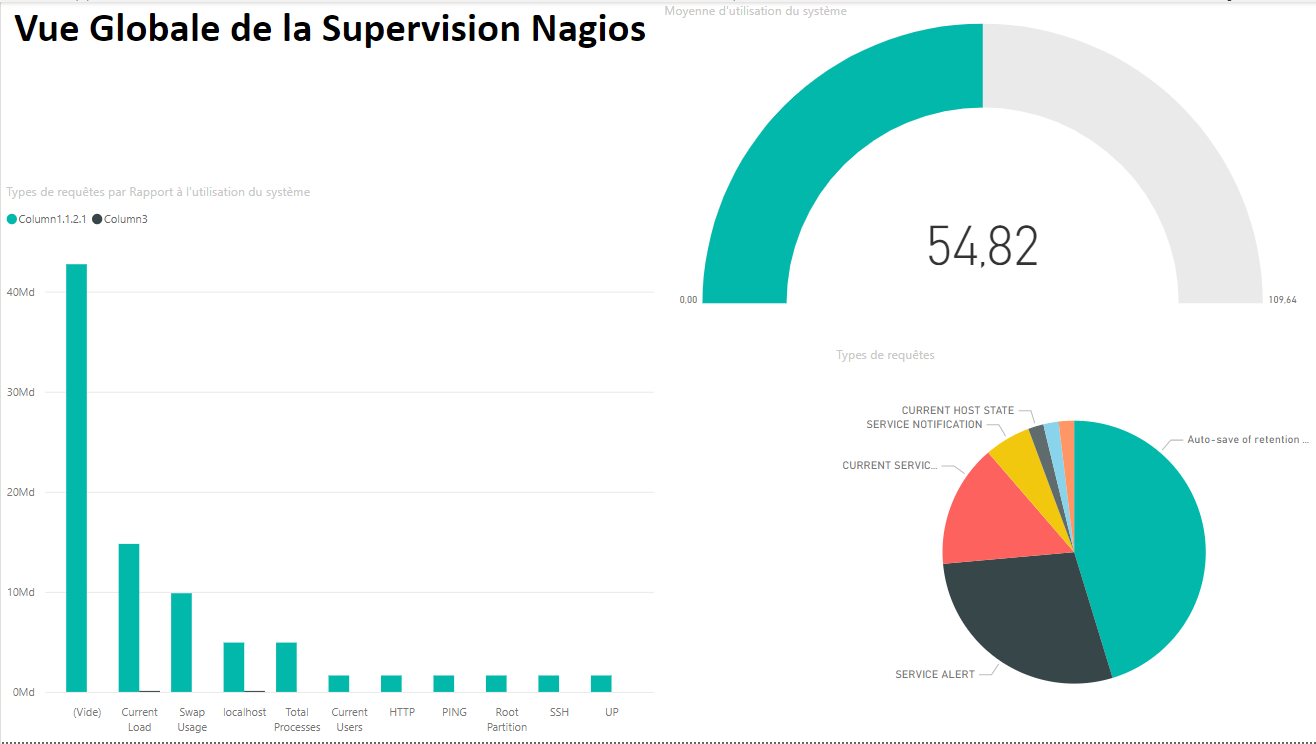

The dashboard page shown, as its layout file describes it:
{"tool":"powerbi","page":{"name":"Visualisation Globale","canvas":[1280,720],"ordinal":0},"visuals":[{"type":"pieChart","title":"Types de requêtes","fields":{"Category":["nagios-02-03-2022-00.Column1.1.2.2.1"],"Y":["Sum(nagios-02-03-2022-00.Column1.1.2.1)"]},"box":[807.3,334.6,472.7,385.2],"z":0},{"type":"lineClusteredColumnComboChart","title":"Types de requêtes par Rapport à l''utilisation du système","fields":{"Y":["Sum(nagios-02-03-2022-00.Column1.1.2.1)","Sum(nagios-02-03-2022-00.Column3)"],"Category":["nagios-02-03-2022-00.Column1.2"]},"box":[0,176,640,543.7],"z":1000},{"type":"gauge","title":"Moyenne d''utilisation du système","fields":{"Y":["Sum(nagios-02-03-2022-00.Column3)"]},"box":[640,0,640,303.5],"z":2000},{"type":"textbox","title":"Vue Globale de la Supervision Nagios","box":[0,0,640,176],"z":3000}]}

Visuals, with their boxes in screenshot pixels (x1, y1, x2, y2), scaled from the page's 1280x720 canvas onto the 1316x744 screenshot:
"Types de requêtes" pieChart: box=[830, 346, 1315, 743]
"Types de requêtes par Rapport à l''utilisation du système" lineClusteredColumnComboChart: box=[0, 182, 658, 743]
"Moyenne d''utilisation du système" gauge: box=[658, 0, 1315, 314]
"Vue Globale de la Supervision Nagios" textbox: box=[0, 0, 658, 182]
